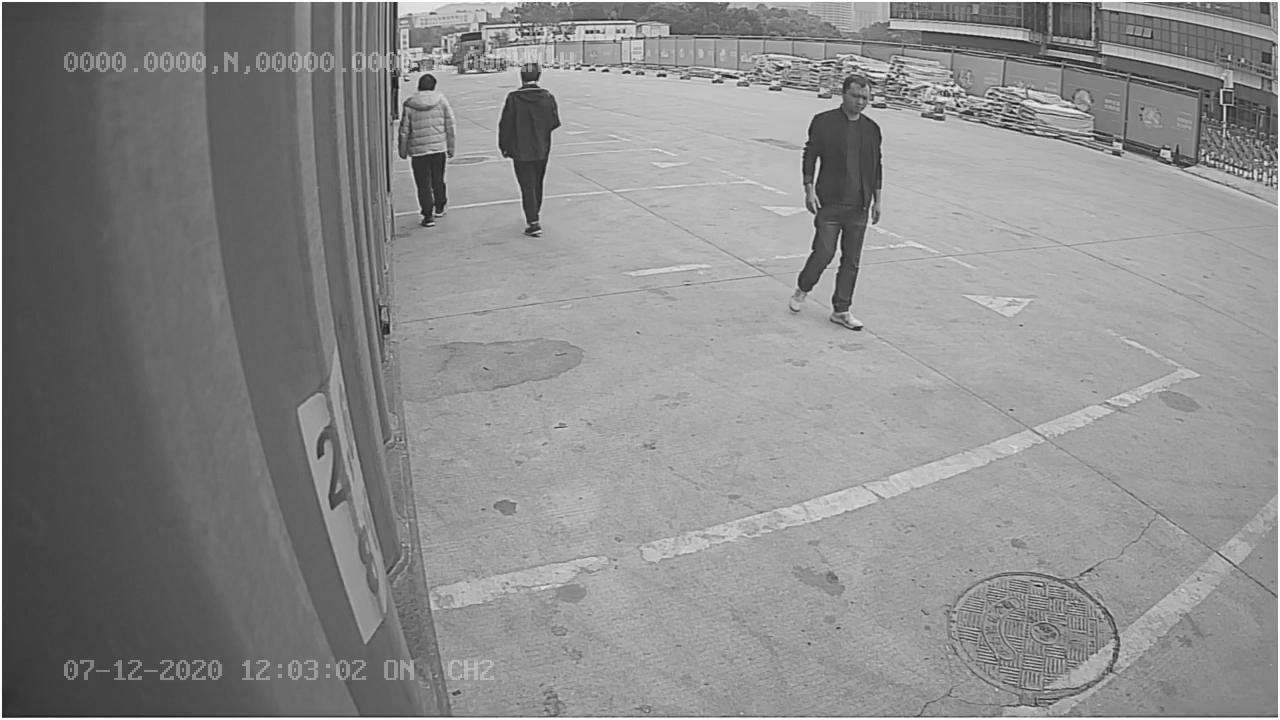person: (784, 73, 886, 333)
